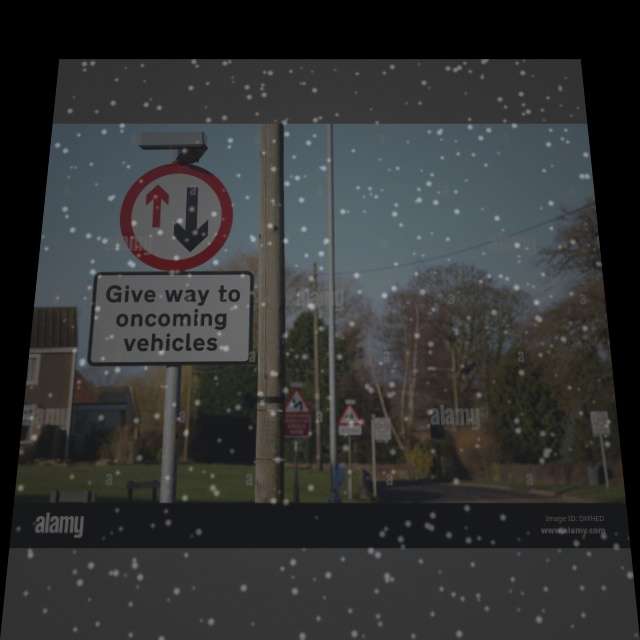Priority_for_Oncoming_Traffic: (116, 164, 234, 270)
